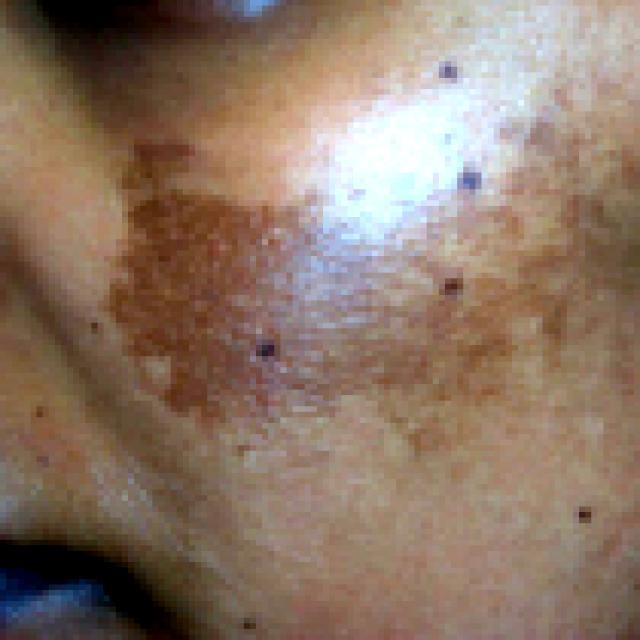Melasma: (106, 126, 640, 435)
